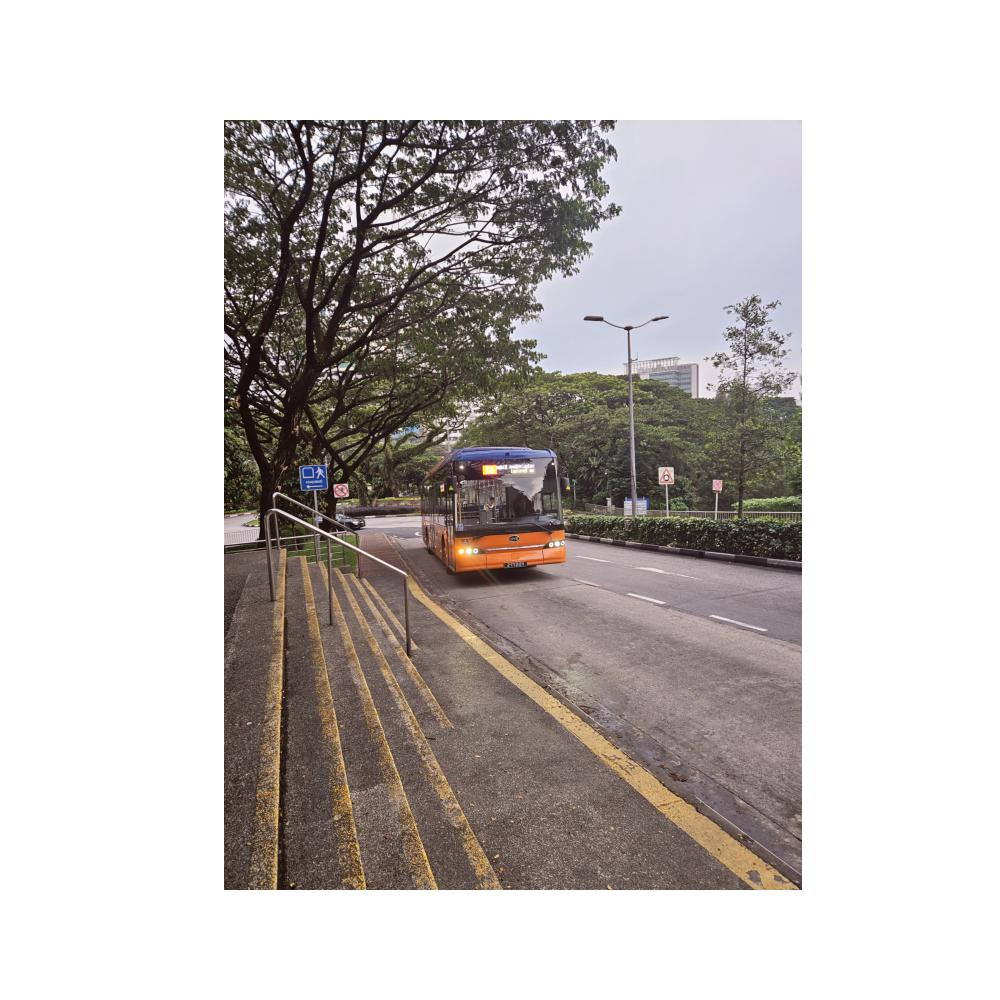bus: (419, 443, 571, 576)
